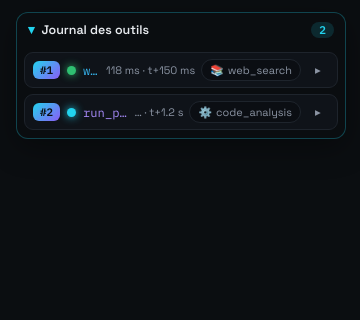
Test case: ToolLedger — liste ordonnée des outils exécutés › déplie les métadonnées de l'appel (statut, sous-tâche, input, output)
Expected: the text "Input" is not shown
Click the 1st button with class "fledger__more" at (318, 70), box [307, 59, 329, 81]
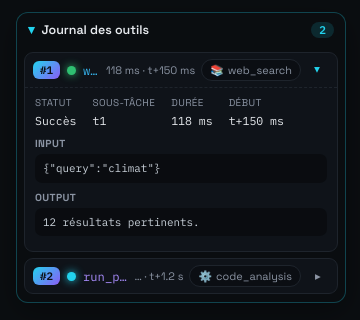
Expected: the heading "Input" is shown, [35, 137, 66, 150]
Expected: the heading "Output" is shown, [35, 191, 76, 204]
Expected: the text "{\"query\":\"climat\"}" is shown, [35, 154, 327, 183]
